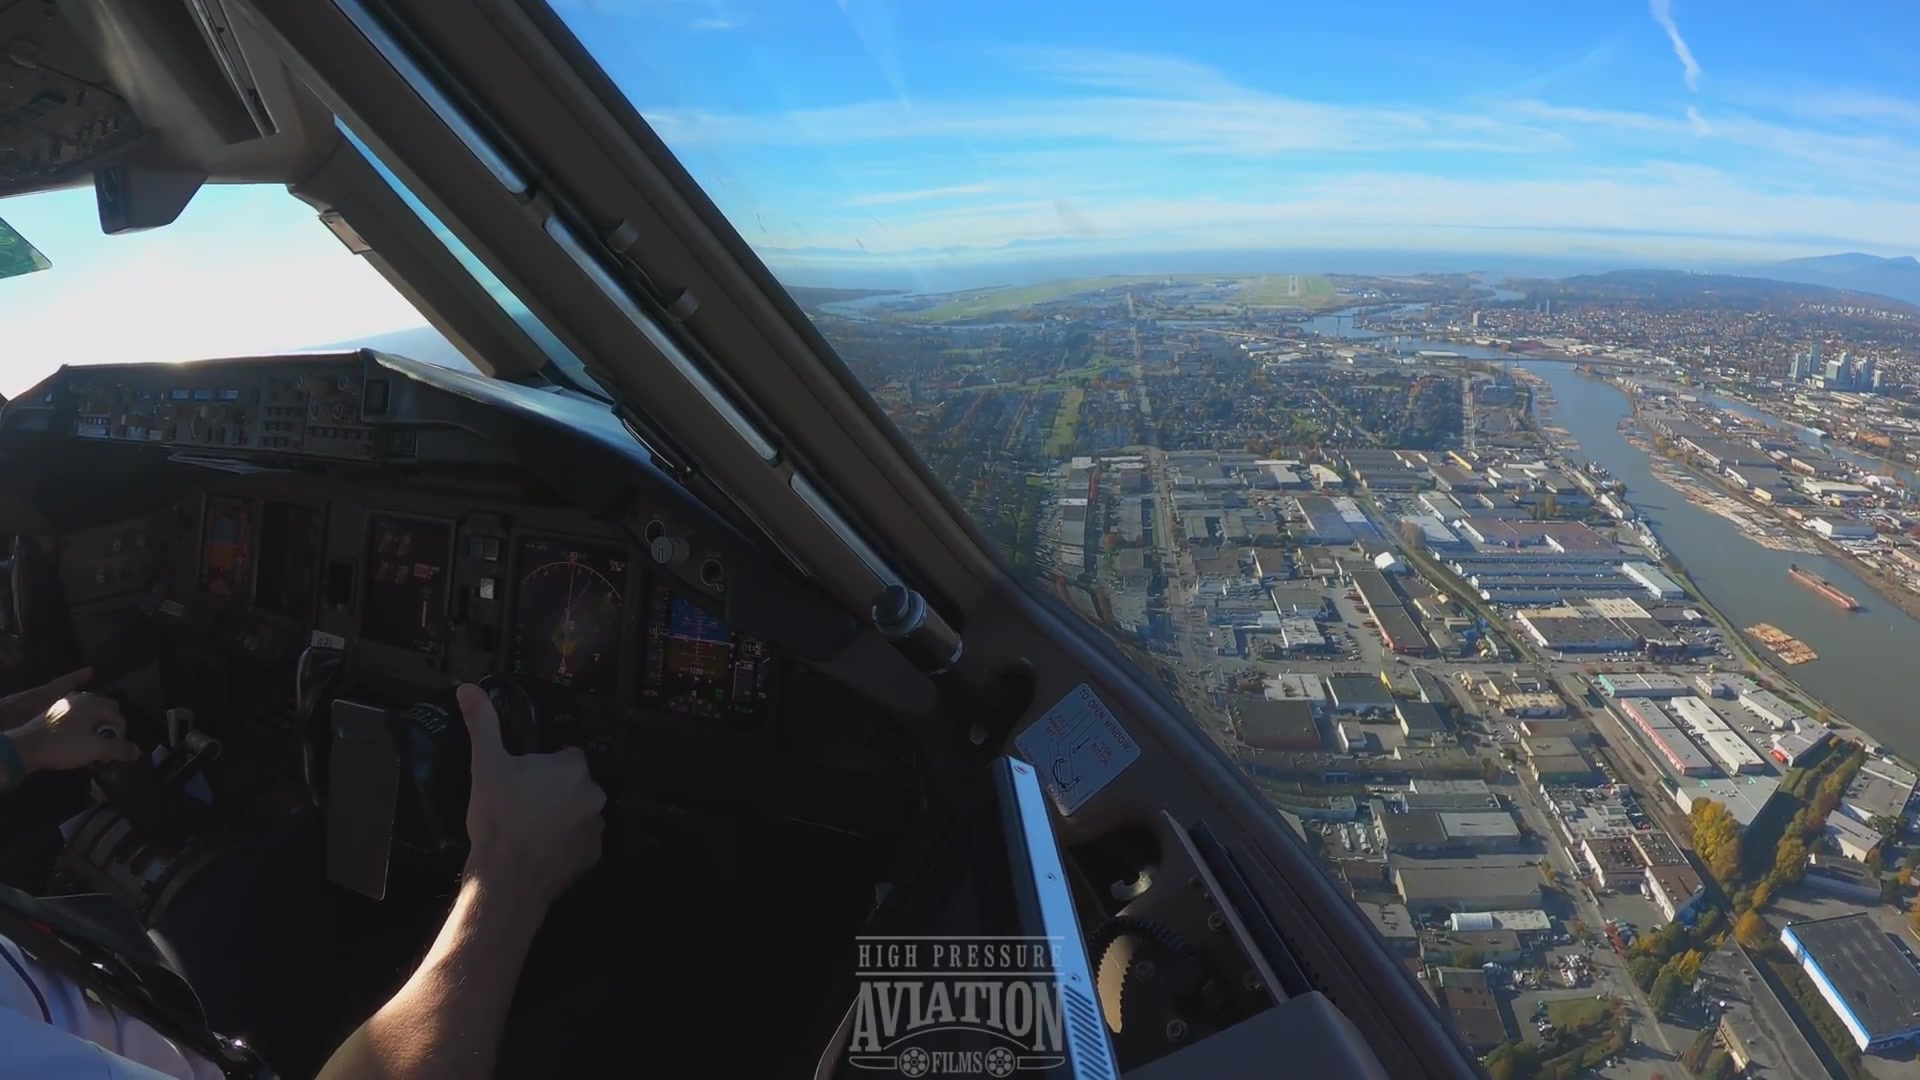runway: (1284, 272, 1302, 299)
